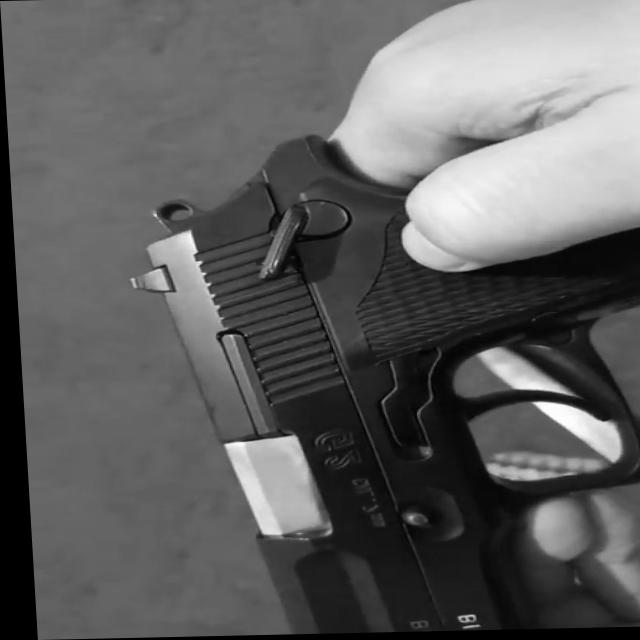handgun: (113, 183, 640, 638)
